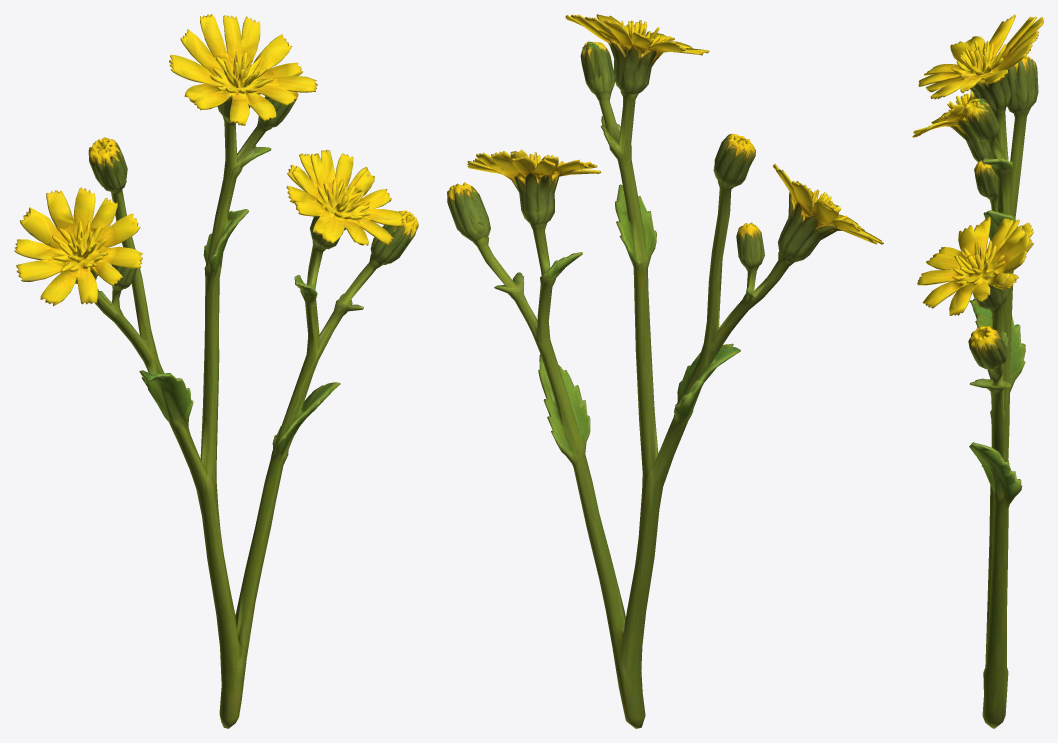
The model's file is season_sowthistle_flowers.glb.
3 views of the same model, side by side, from view 1: azimuth 30°, elevation 25°; view 2: azimuth 150°, elevation 25°; view 3: azimuth 270°, elevation 25° (orthographic). The views are drawn at different scales.
Parts seen in each view (by area): view 1: Mesh_0; view 2: Mesh_0; view 3: Mesh_0.
Boxes of the visible parts, x1=… form: Mesh_0: x1=14, y1=14, x2=418, y2=728; Mesh_0: x1=447, y1=14, x2=883, y2=728; Mesh_0: x1=912, y1=14, x2=1043, y2=728.
Size of the model in its own units: 0.9106 by 1.5 by 0.2528.
1 material, 1 textured.
